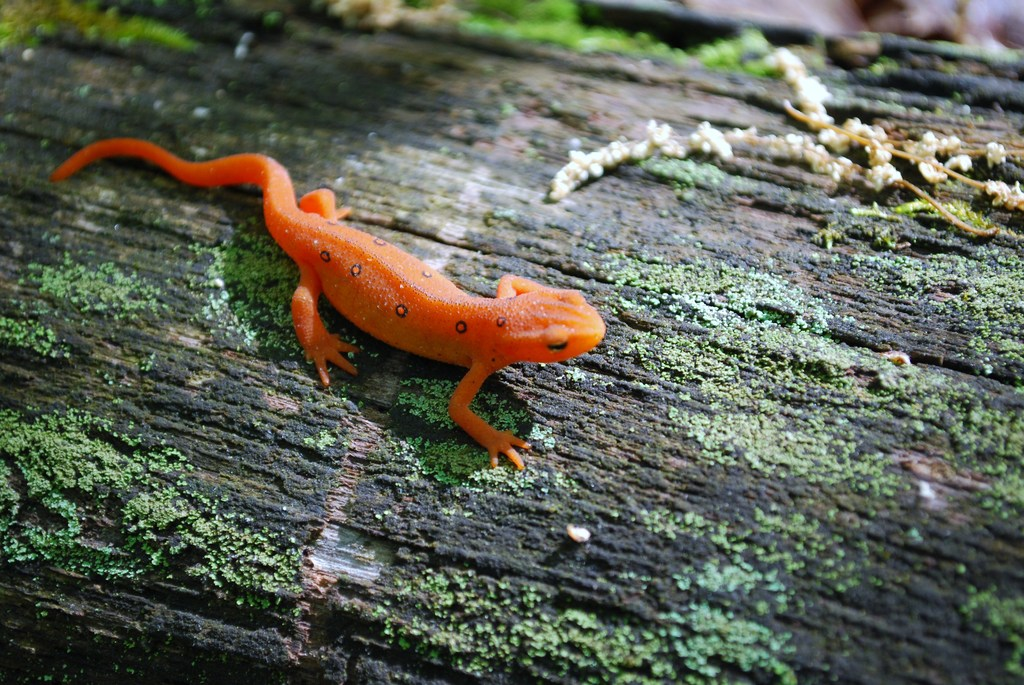person: (240, 196, 605, 473)
